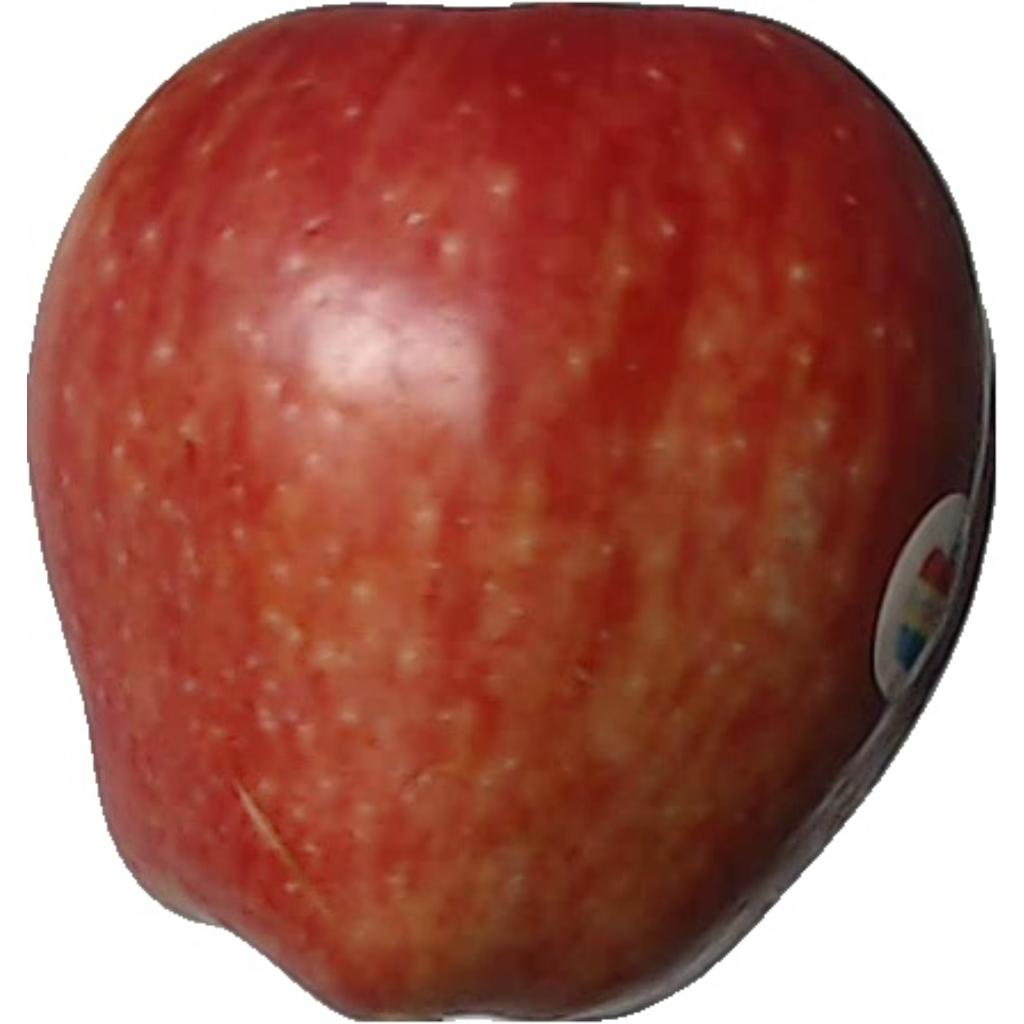apple: (26, 5, 997, 1024)
